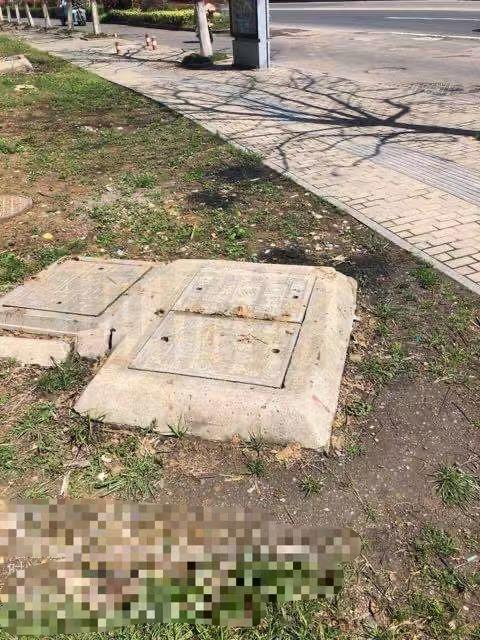wellcover: (80, 259, 365, 453), (0, 243, 168, 363)
